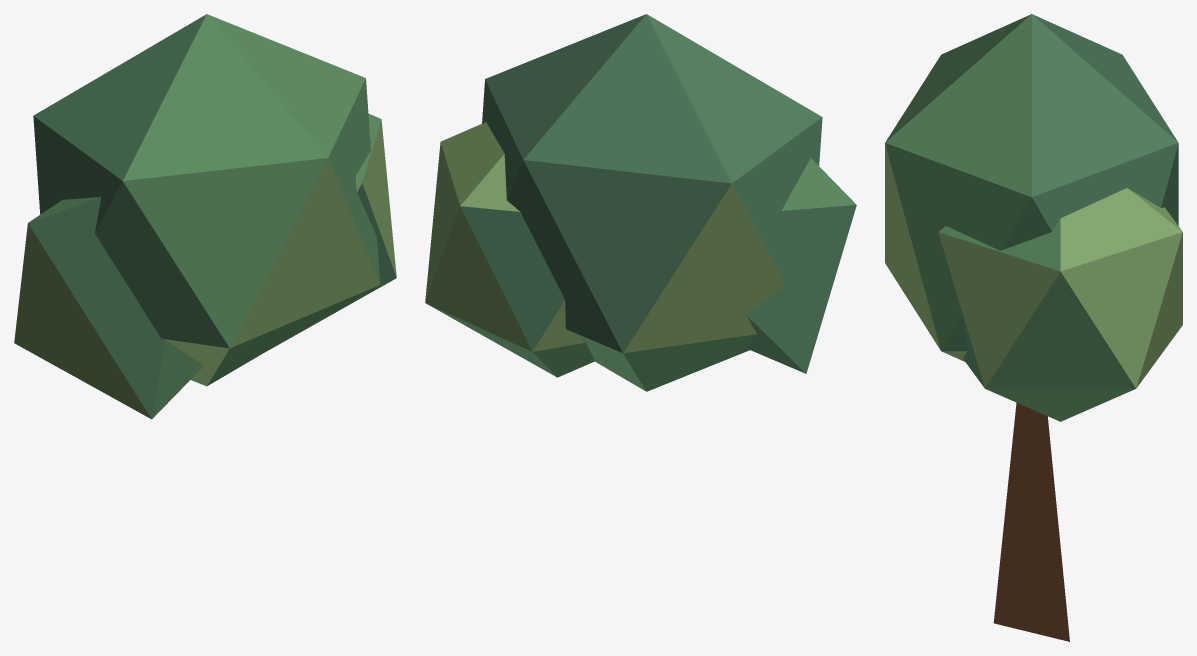
The model's file is TreeLOD1.glb.
3 renders of one model, left to right at view 1: azimuth 30°, elevation 25°; view 2: azimuth 150°, elevation 25°; view 3: azimuth 270°, elevation 25°, orthographic.
Visible parts, largest first — view 1: Tree; view 2: Tree; view 3: Tree.
Part boxes in pixels (bbox=[...]): Tree: bbox=[14, 14, 396, 419]; Tree: bbox=[425, 14, 856, 391]; Tree: bbox=[885, 14, 1182, 641].
Bounding box in the file's own units: 3.11 × 4.75 × 2.07.
